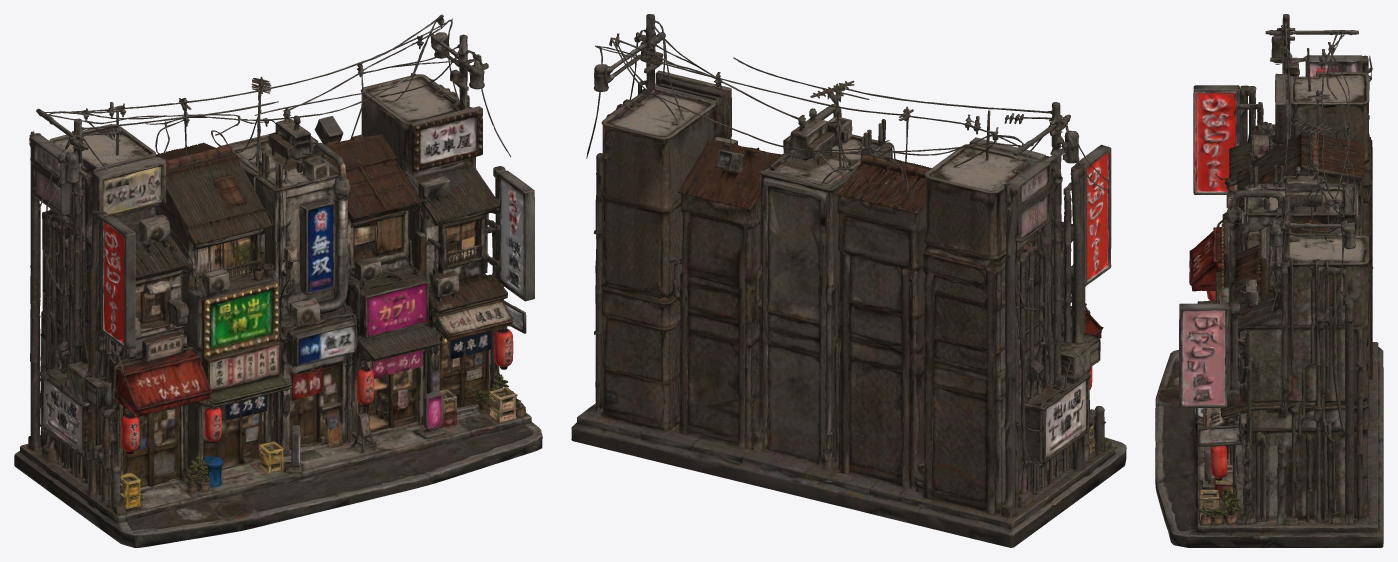
The model's file is tokyo1-web.glb.
The picture shows the model from 3 angles, left to right: view 1: azimuth 30°, elevation 25°; view 2: azimuth 150°, elevation 25°; view 3: azimuth 270°, elevation 25°; orthographic projection. The views are drawn at different scales.
Size of the model in its own units: 1.9 by 1.48 by 0.8739.
Materials: 1 (1 with a texture image).
